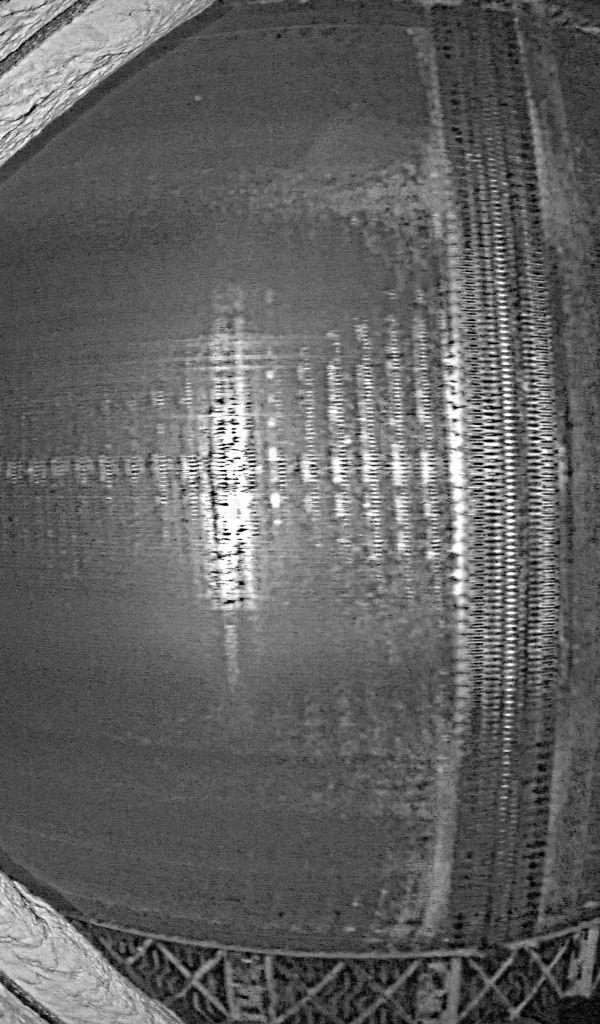splice: (407, 1, 569, 949)
